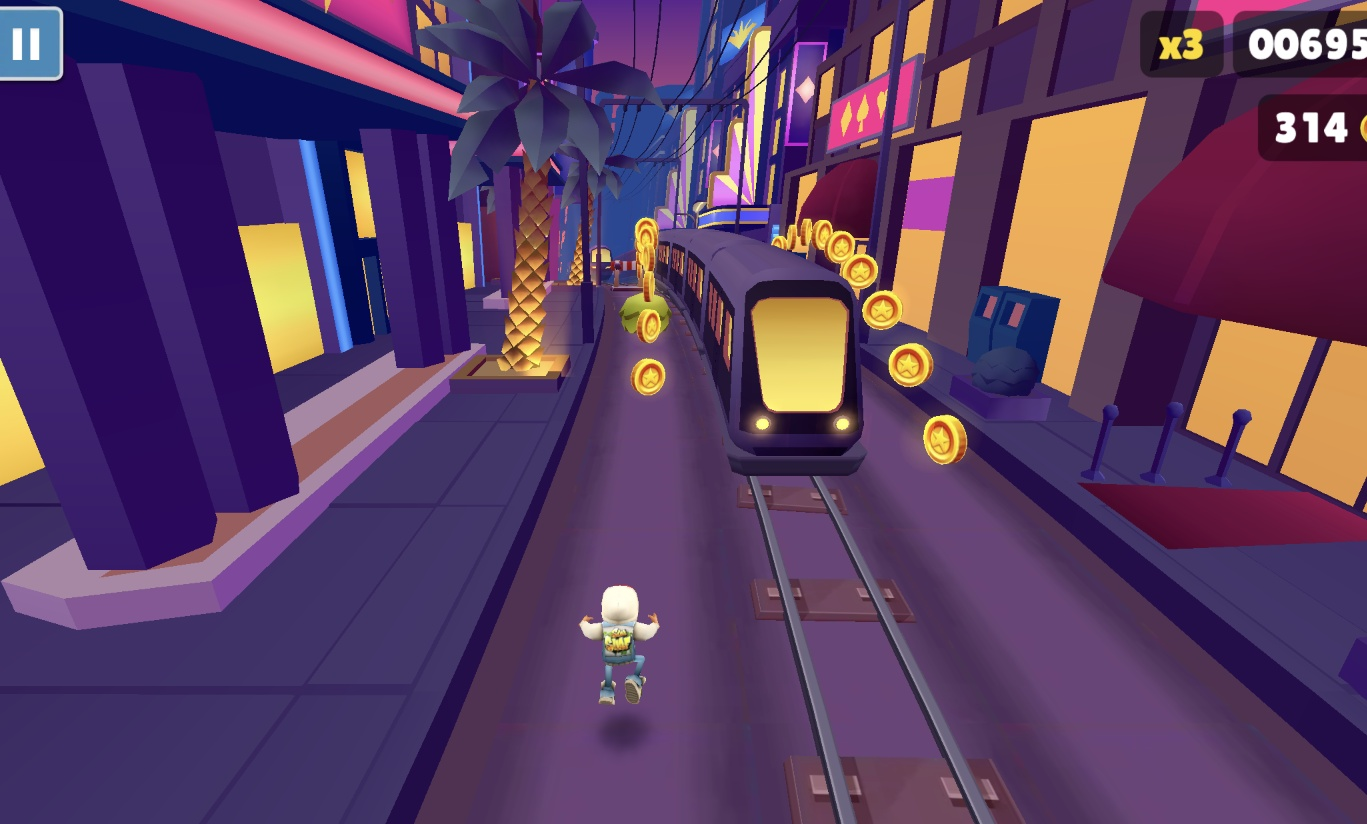bush: (619, 294, 670, 339)
ground_barrier: (603, 257, 640, 290)
train: (654, 227, 870, 479), (591, 245, 615, 284)
